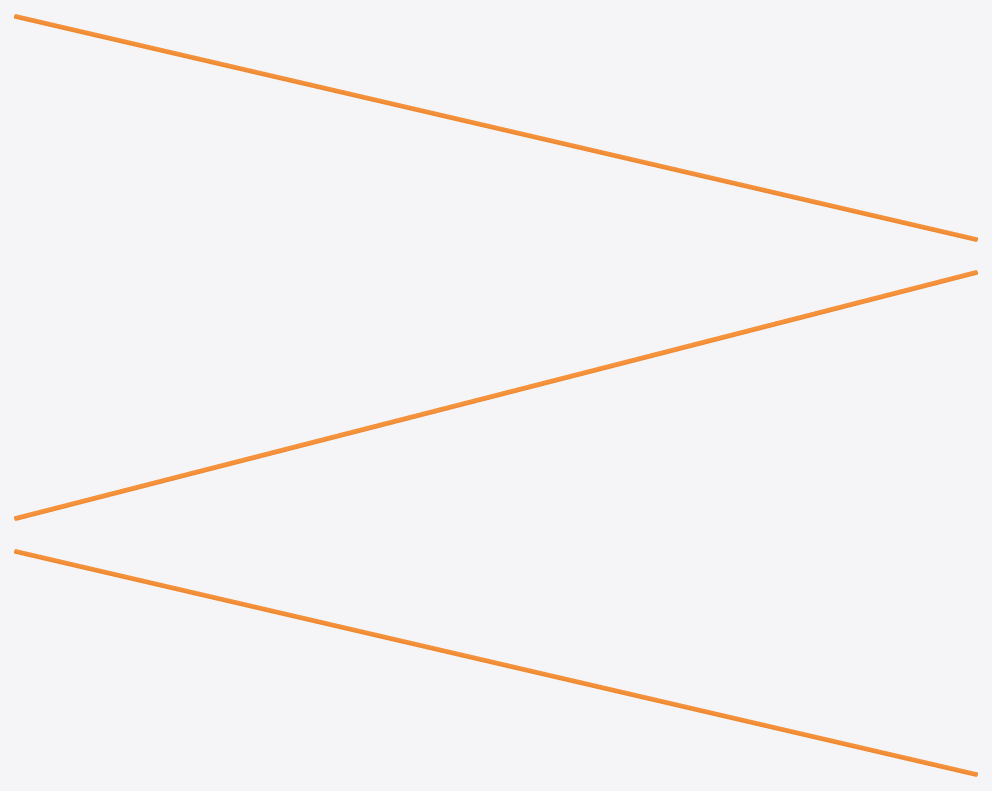
3 renders of one model, top to bottom at view 1: azimuth 90°, elevation 25°; view 2: azimuth 150°, elevation 25°; view 3: azimuth 270°, elevation 25°, orthographic. The views are drawn at different scales.
Parts seen in each view (by area): view 1: BezierCurve.006; view 2: BezierCurve.006; view 3: BezierCurve.006.
Boxes of the visible parts, x1,y1,x2,y2 form: BezierCurve.006: [14, 14, 977, 241]; BezierCurve.006: [14, 270, 977, 520]; BezierCurve.006: [14, 549, 977, 776].
Bounding box in the file's own units: 11.23 × 0.1 × 20.33.
